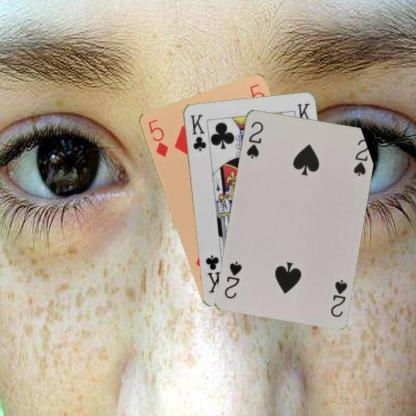2s: (244, 118, 264, 160), (328, 276, 348, 318)
5d: (144, 116, 170, 158)
Kc: (187, 112, 208, 152)
